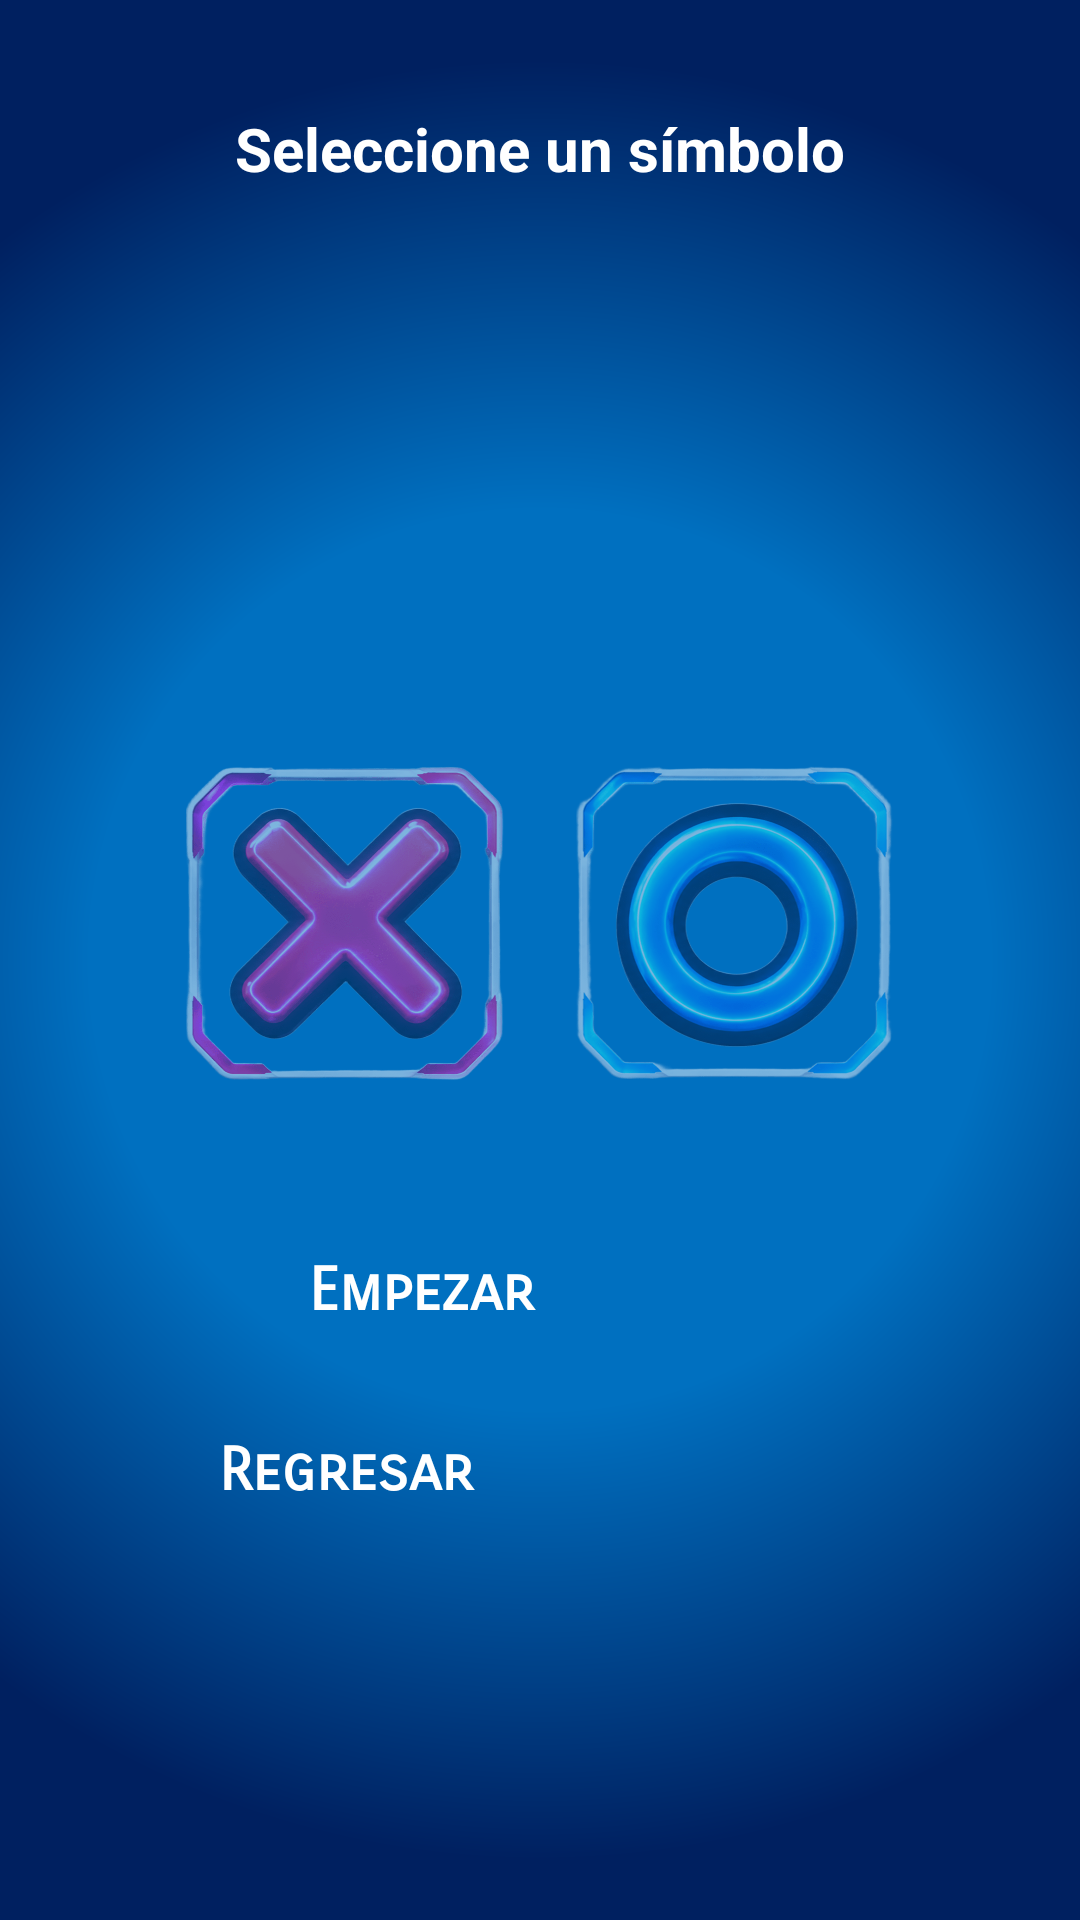

Point at icon controls on the screen. Image size 1080px x 1920px, points as [x,y].
Seleccionar O: [734,923]
Seleccionar X: [344,923]
